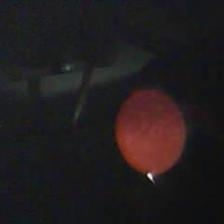infertile: (115, 86, 186, 176)
